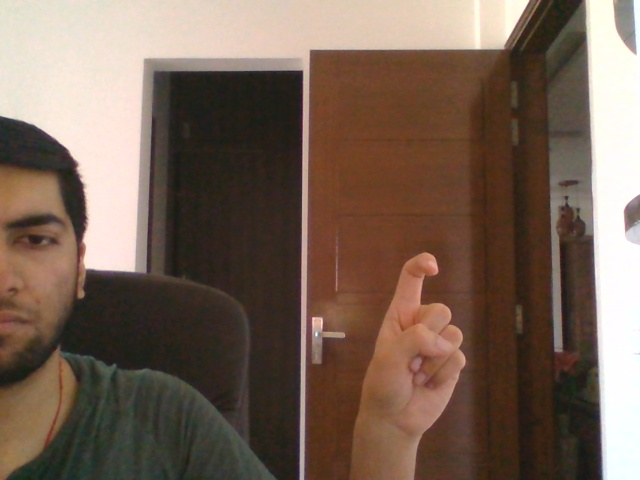LetterX: (356, 245, 471, 446)
